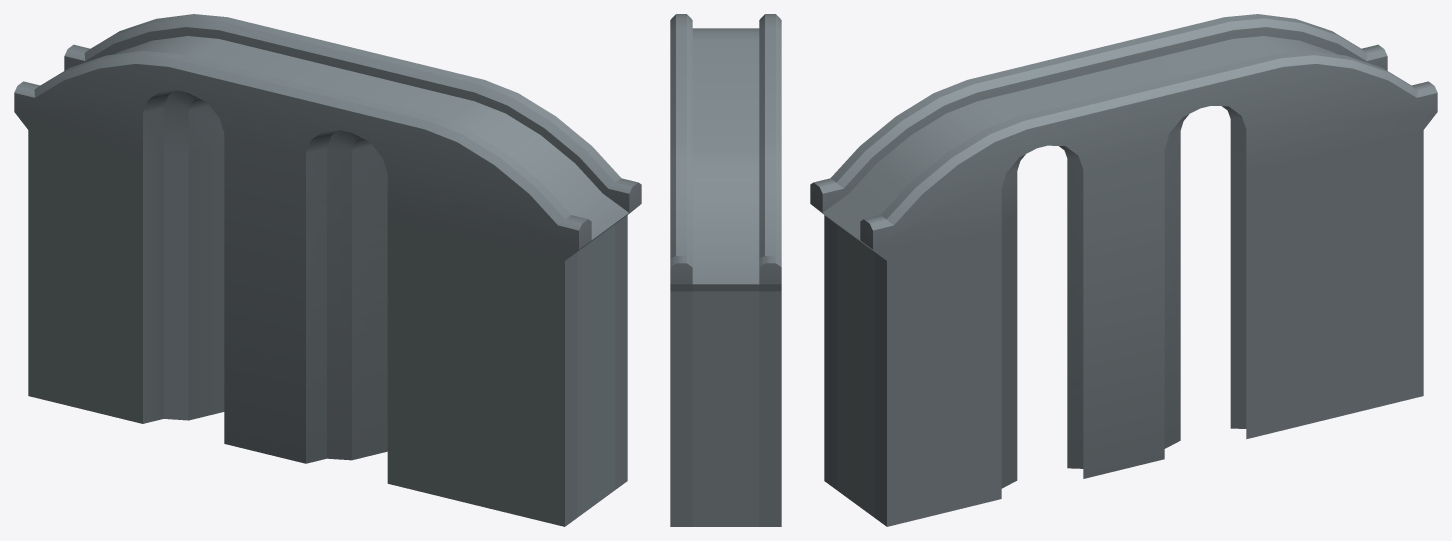
Rendered from kk_bridge.glb.
The picture shows the model from 3 angles, left to right: view 1: azimuth 30°, elevation 25°; view 2: azimuth 150°, elevation 25°; view 3: azimuth 270°, elevation 25°; orthographic projection. The views are drawn at different scales.
Visible parts, largest first — view 1: building_bridge_A; view 2: building_bridge_A; view 3: building_bridge_A.
Part boxes in pixels (x1=…): building_bridge_A: x1=14, y1=14, x2=641, y2=526; building_bridge_A: x1=670, y1=14, x2=781, y2=526; building_bridge_A: x1=810, y1=14, x2=1437, y2=526.
Size of the model in its own units: 1.33 by 1.25 by 1.92.
1 material, 1 textured.
